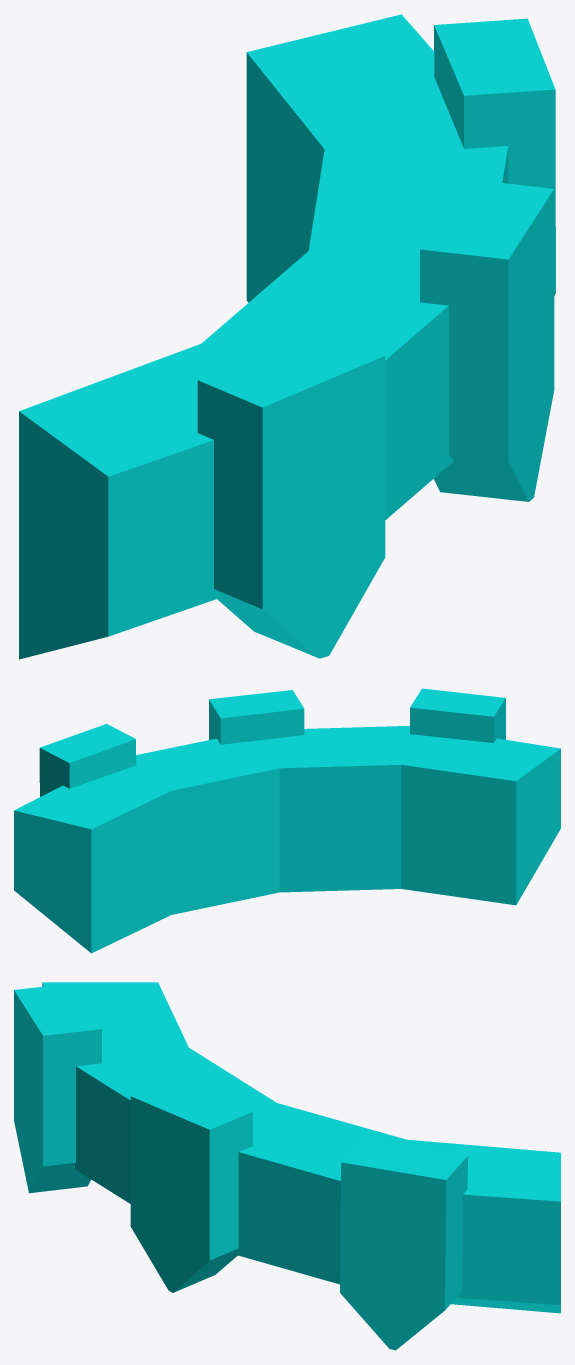
File: SM_Bld_Battlements_L_Curve_01_Collision.fbx
3 views of the same model, one above another, from view 1: azimuth 30°, elevation 25°; view 2: azimuth 150°, elevation 25°; view 3: azimuth 270°, elevation 25° (orthographic). The views are drawn at different scales.
Visible parts, largest first — view 1: SM_Bld_Battlements_L_Curve_01_Collision; view 2: SM_Bld_Battlements_L_Curve_01_Collision; view 3: SM_Bld_Battlements_L_Curve_01_Collision.
Boxes of the visible parts, x1=… form: SM_Bld_Battlements_L_Curve_01_Collision: x1=19, y1=14, x2=555, y2=659; SM_Bld_Battlements_L_Curve_01_Collision: x1=14, y1=688, x2=560, y2=953; SM_Bld_Battlements_L_Curve_01_Collision: x1=14, y1=982, x2=560, y2=1350.
Size of the model in its own units: 478 by 188 by 479.
